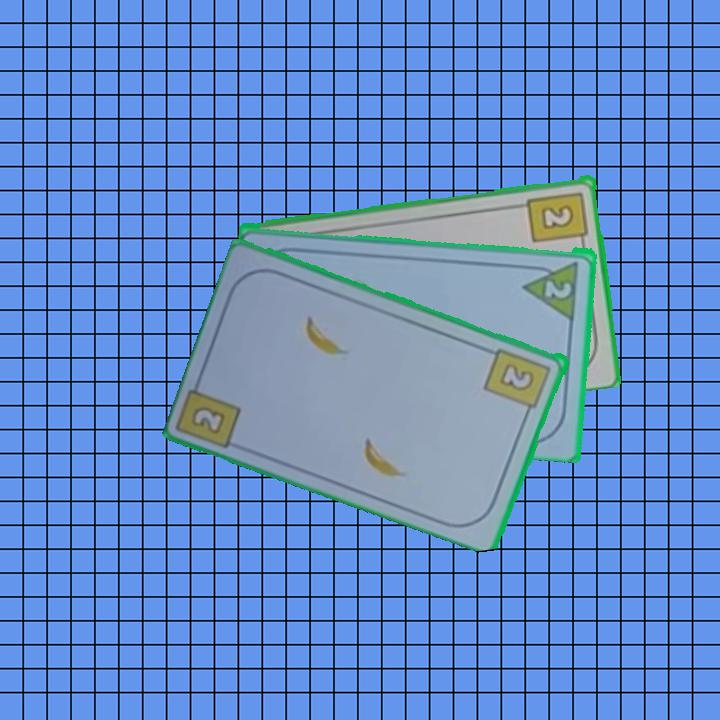2b: (481, 344, 554, 419), (525, 187, 591, 249), (191, 405, 225, 434)
2p: (541, 276, 575, 301)
